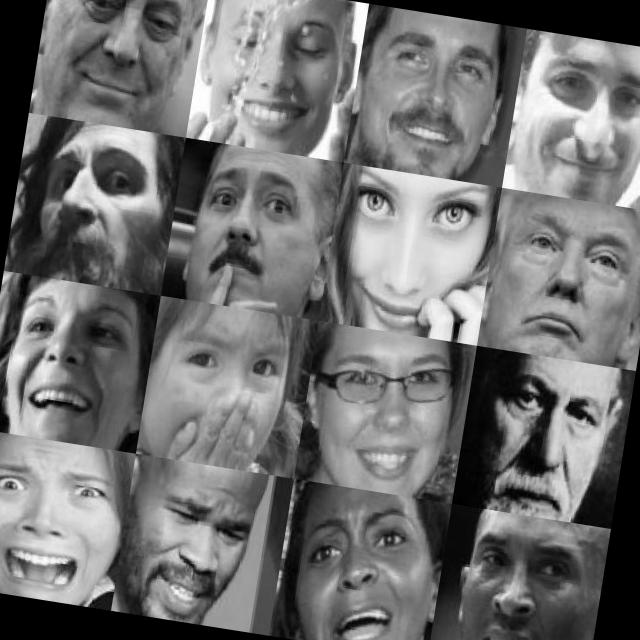angry: (117, 464, 286, 623), (293, 495, 432, 640), (445, 518, 589, 640)
fear: (142, 306, 312, 468), (0, 448, 121, 602)
happy: (339, 170, 496, 333), (302, 334, 461, 492), (0, 286, 148, 443), (200, 0, 345, 145), (368, 22, 505, 173), (521, 43, 640, 200), (46, 0, 188, 118)
neutral: (464, 354, 626, 522), (492, 196, 640, 361), (172, 153, 330, 307), (27, 131, 166, 284)
